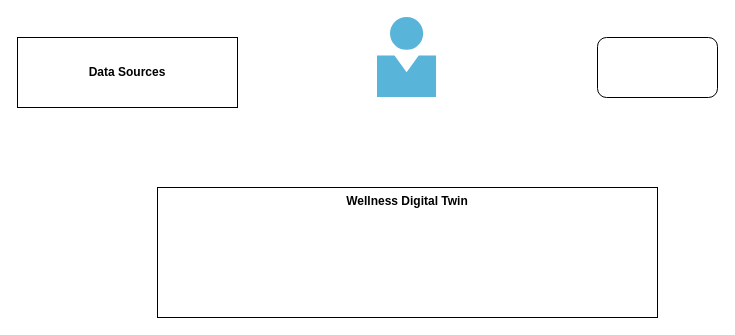
The diagram is 735 pixels wide and 335 high, and some of its shapes have lost their labels. The shapes that lost their labels are listed below. From the top down, each one's centre as x and y in pixels, then its label:
(406,57): User
(657,67): Wellness Team
